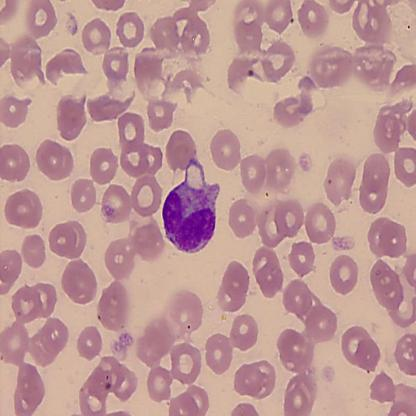Monocyte: (160, 157, 221, 255)
